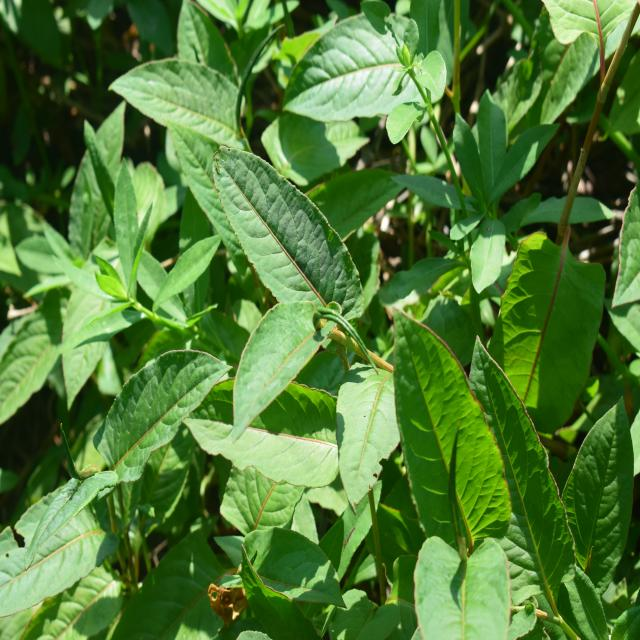Chinese_knotweed: (391, 288, 595, 640), (219, 149, 406, 492)
